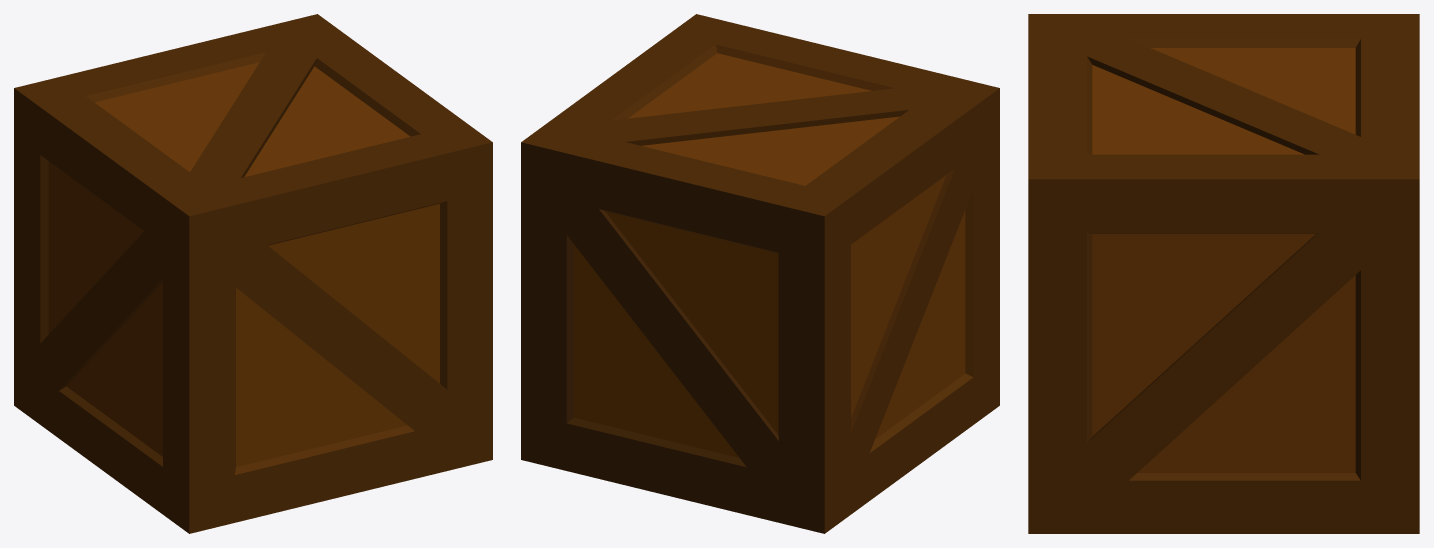
The model's file is CoolerCube.fbx.
3 views of the same model, side by side, from view 1: azimuth 30°, elevation 25°; view 2: azimuth 150°, elevation 25°; view 3: azimuth 270°, elevation 25° (orthographic). The views are drawn at different scales.
Visible parts, largest first — view 1: CoolCube; view 2: CoolCube; view 3: CoolCube.
Boxes of the visible parts, x1=… form: CoolCube: x1=14, y1=14, x2=492, y2=533; CoolCube: x1=521, y1=14, x2=999, y2=533; CoolCube: x1=1028, y1=14, x2=1419, y2=533.
Bounding box in the file's own units: 104 × 104 × 104.
